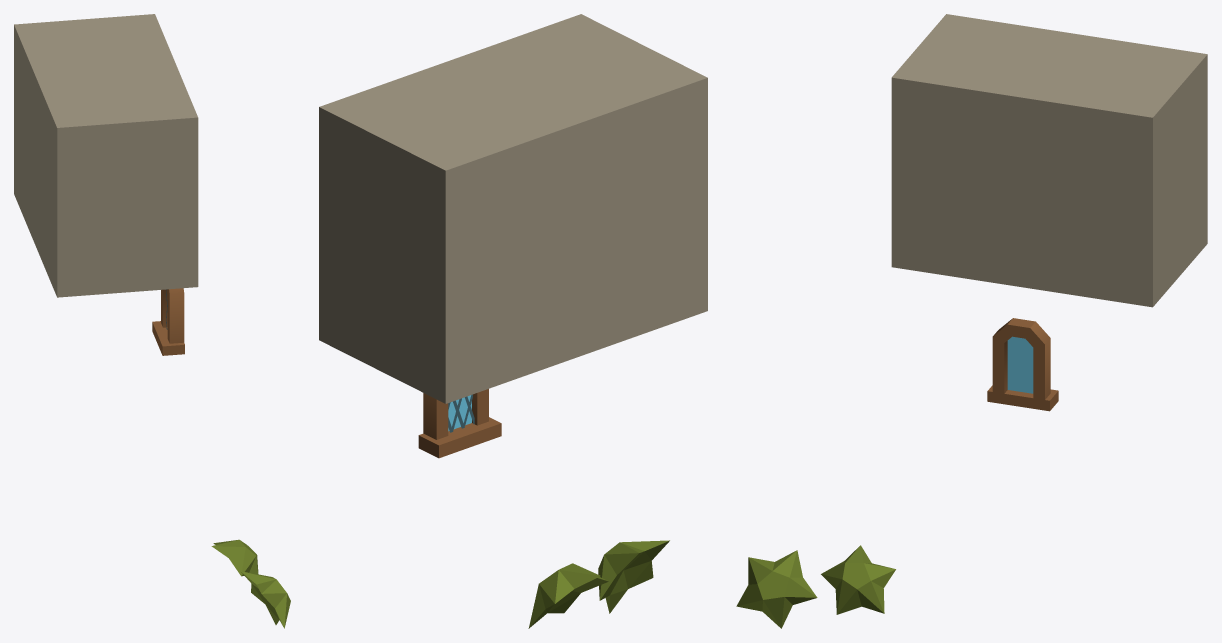
The picture shows the model from 3 angles, left to right: view 1: azimuth 30°, elevation 25°; view 2: azimuth 150°, elevation 25°; view 3: azimuth 270°, elevation 25°; orthographic projection. The views are drawn at different scales.
Visible parts, largest first — view 1: Box15037_wall3_0, Box16031_green2_0, Plane518_brown_0, Box16032_green2_0, Box15857_brown_0; view 2: Box15037_wall3_0, Box16031_green2_0, Box16032_green2_0, Box15857_brown_0, Plane518_brown_0; view 3: Box15037_wall3_0, Box16031_green2_0, Plane518_brown_0, Box16032_green2_0, Plane520_mirror_0, Box15857_brown_0.
Part boxes in pixels (x1=…): Box15037_wall3_0: x1=14, y1=14, x2=198, y2=297; Box16031_green2_0: x1=240, y1=571, x2=290, y2=628; Plane518_brown_0: x1=161, y1=288, x2=184, y2=343; Box16032_green2_0: x1=211, y1=539, x2=258, y2=576; Box15857_brown_0: x1=152, y1=321, x2=184, y2=355; Box15037_wall3_0: x1=319, y1=14, x2=707, y2=403; Box16031_green2_0: x1=598, y1=540, x2=669, y2=613; Box16032_green2_0: x1=528, y1=563, x2=608, y2=628; Box15857_brown_0: x1=418, y1=417, x2=501, y2=458; Plane518_brown_0: x1=423, y1=389, x2=488, y2=439; Box15037_wall3_0: x1=891, y1=14, x2=1207, y2=307; Box16031_green2_0: x1=736, y1=550, x2=817, y2=628; Plane518_brown_0: x1=992, y1=318, x2=1050, y2=406; Box16032_green2_0: x1=821, y1=545, x2=895, y2=614; Plane520_mirror_0: x1=1007, y1=336, x2=1033, y2=393; Box15857_brown_0: x1=987, y1=385, x2=1058, y2=411.
Size of the model in its own units: 297 by 716 by 570.
